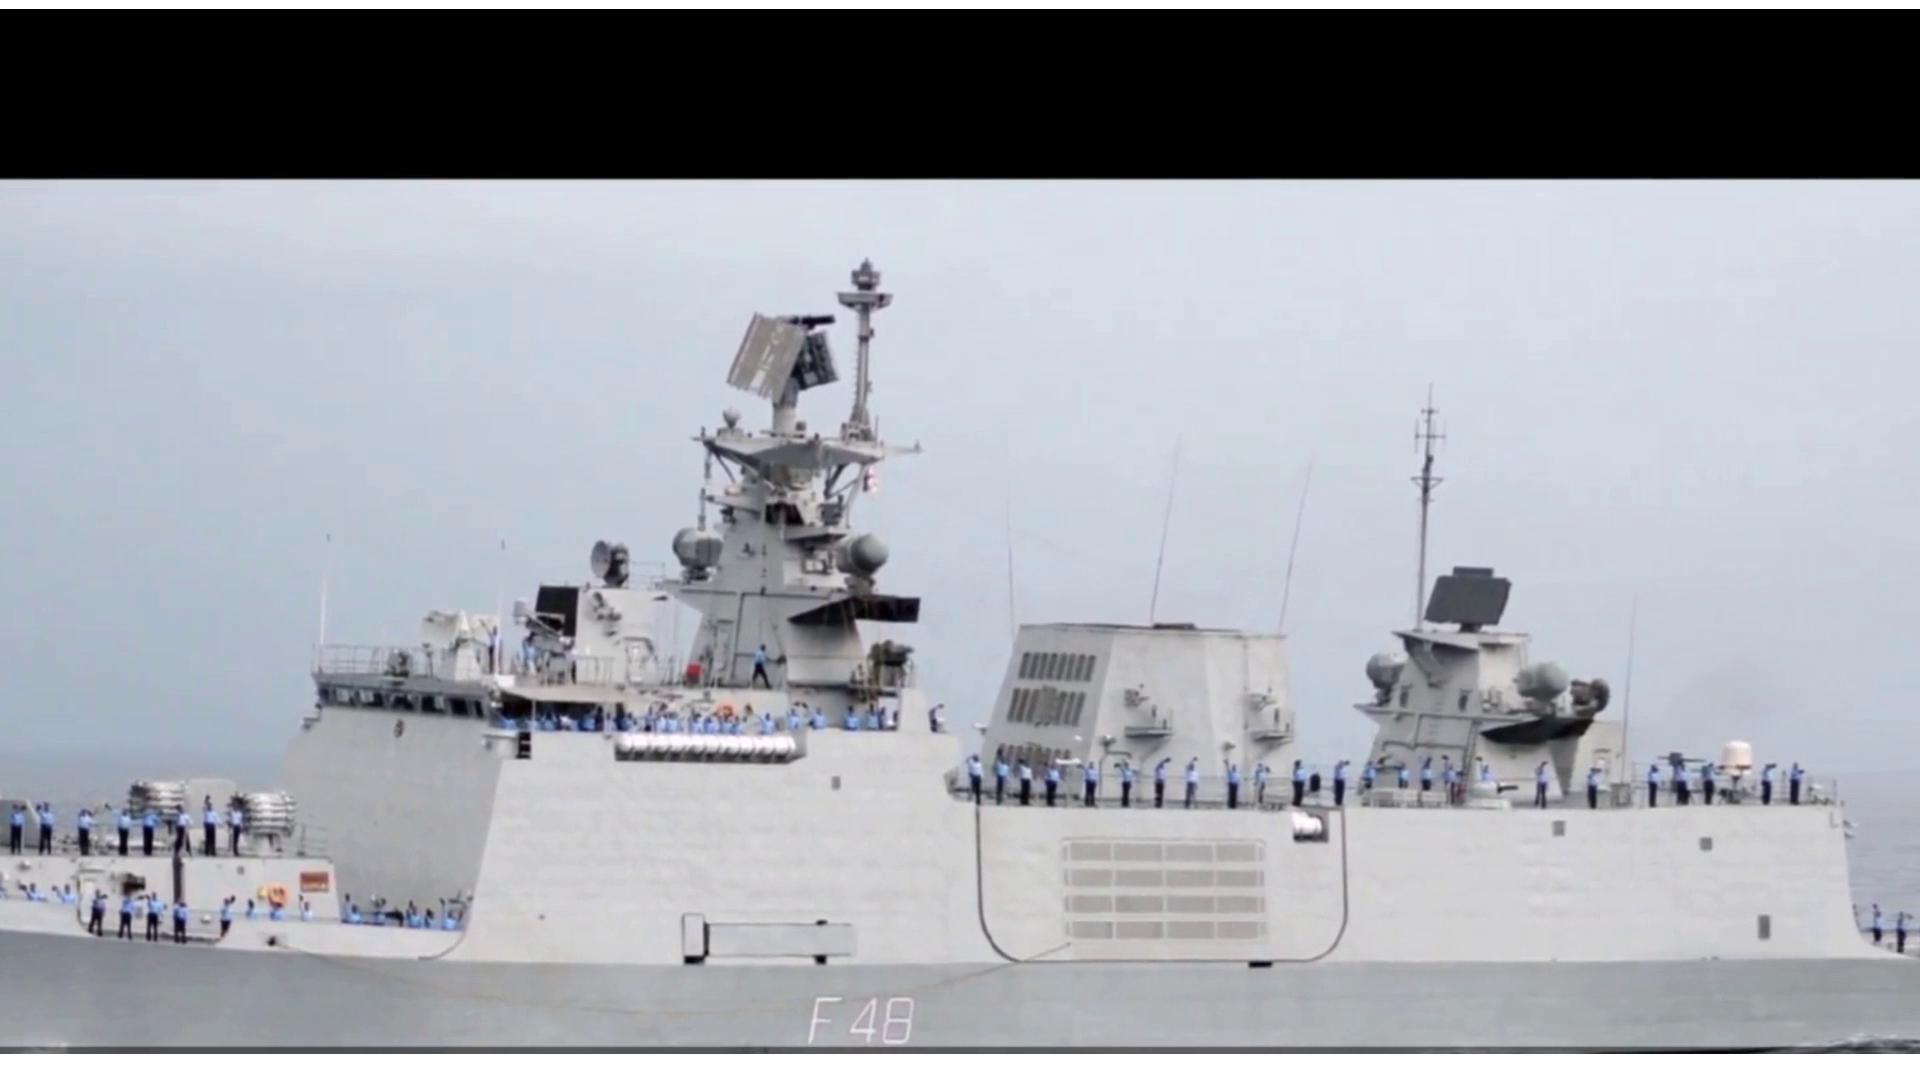OCR: (773, 982, 931, 1044)
